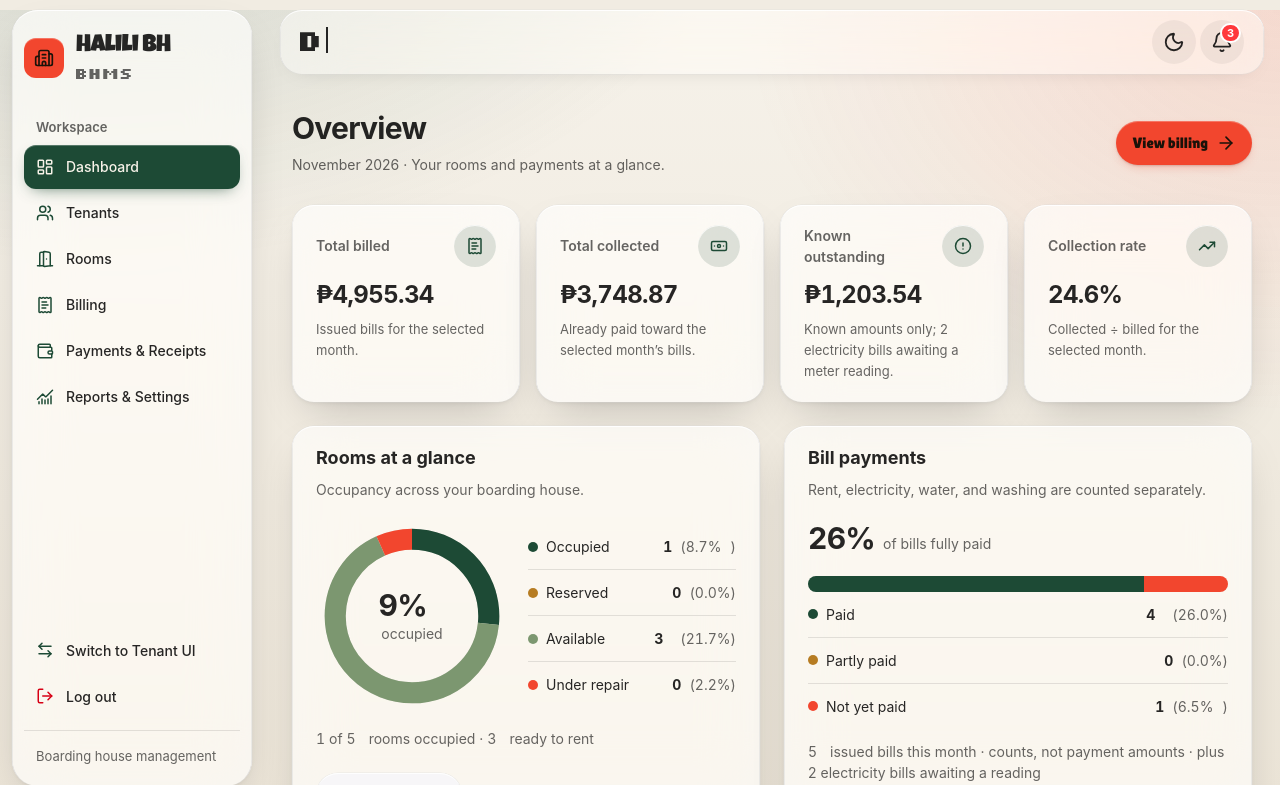
Scenario: workspace switching › supports browser back and forward navigation between workspaces
Later steps or results of the test are not shown.
Check: the element named "Room occupancy analytics" is shown, box [316,520,736,749]
Click the button "Switch to Tenant UI": (132, 650) [24,628,240,672]
(page scrolled)
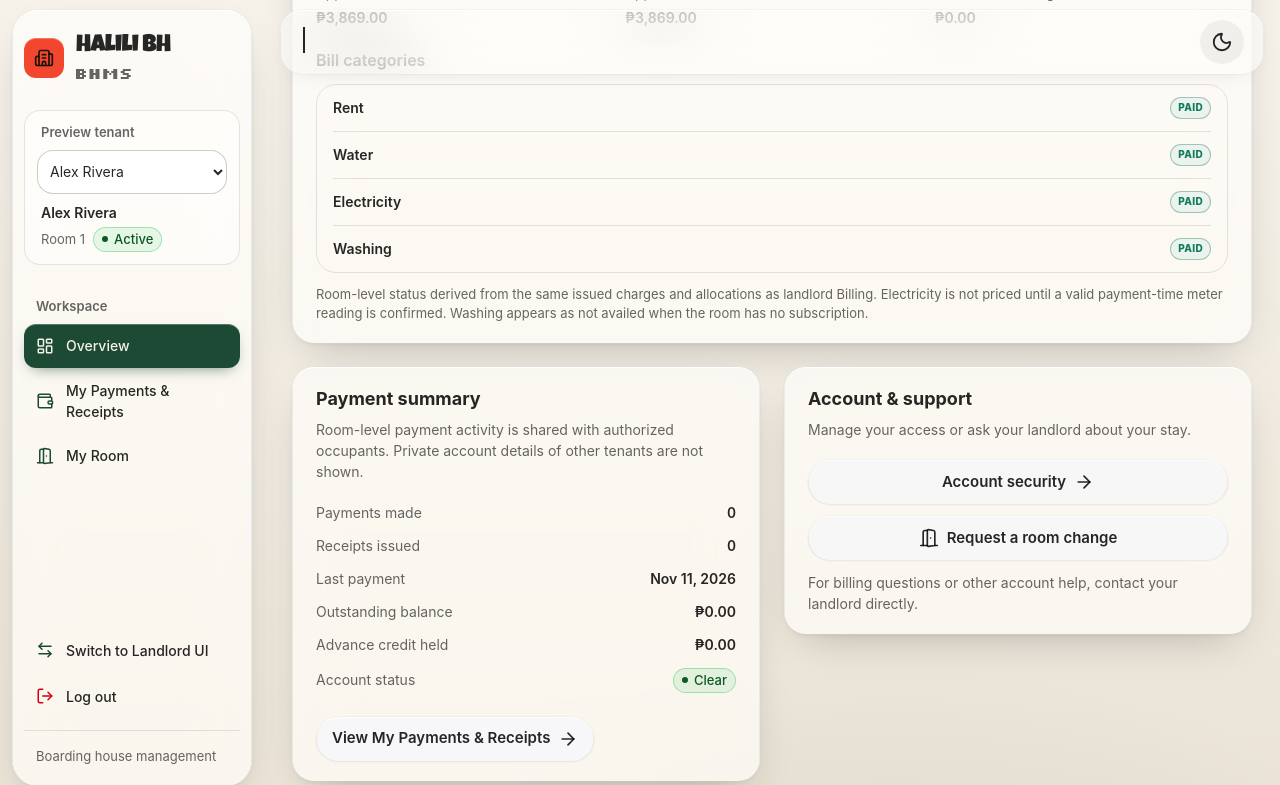
Check: the text "Account & support" is shown, box [808,388,972,408]
